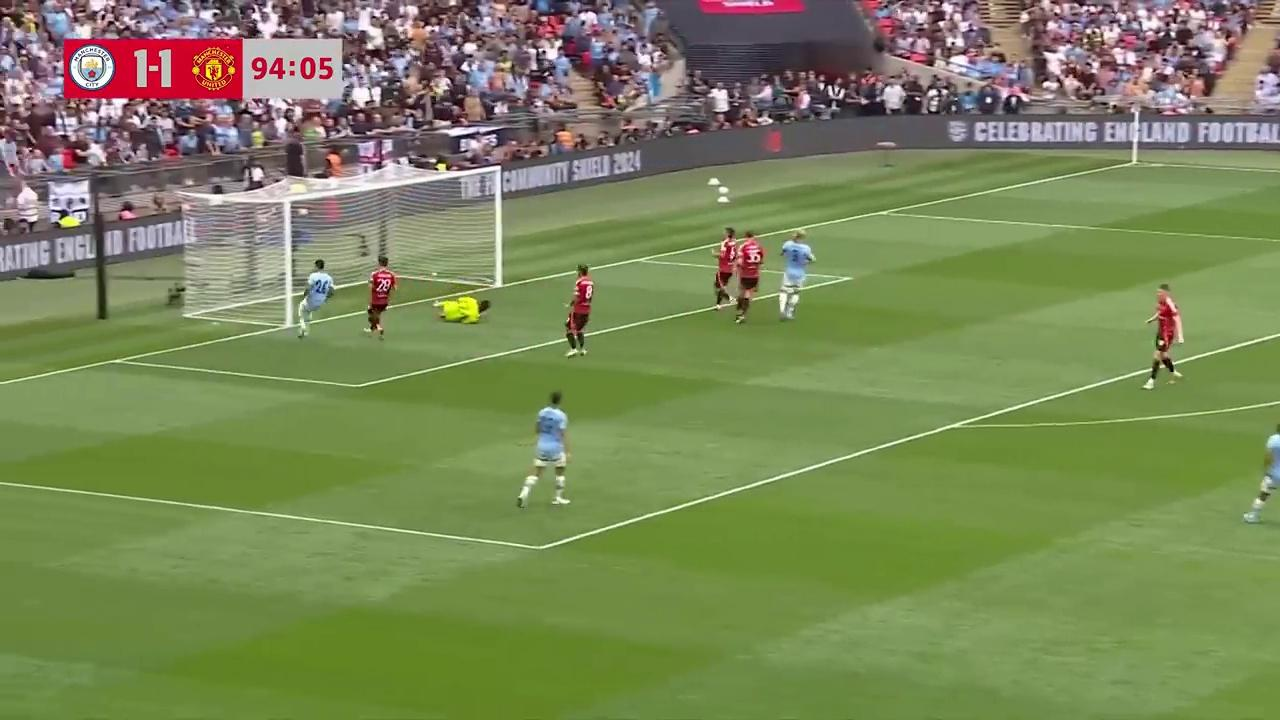player: (517, 389, 571, 509), (1142, 282, 1184, 390), (1242, 417, 1280, 524), (778, 230, 815, 311), (775, 239, 812, 320), (295, 261, 333, 339), (562, 265, 593, 358), (733, 240, 765, 323), (364, 260, 398, 338), (712, 228, 740, 311), (433, 291, 491, 329)
